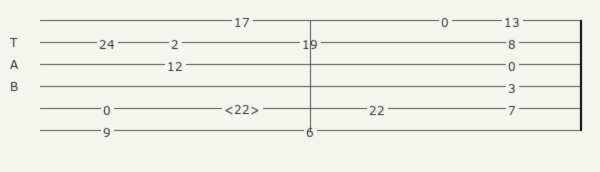0: (103, 102, 115, 115), (441, 14, 453, 27), (508, 58, 520, 71)
12: (167, 58, 187, 71)
13: (504, 14, 524, 27)
17: (234, 14, 254, 27)
19: (302, 36, 322, 49)
2: (171, 36, 183, 49)
22: (369, 102, 389, 115)
24: (99, 36, 119, 49)
3: (508, 80, 520, 93)
6: (306, 124, 318, 137)
7: (508, 102, 520, 115)
8: (508, 36, 520, 49)
9: (103, 124, 115, 137)
harmonic: (224, 101, 264, 115)
